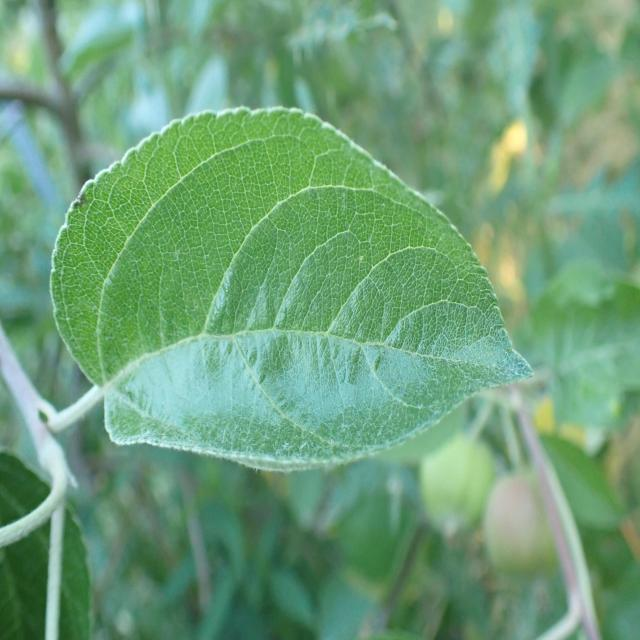healthy: (49, 106, 534, 472), (0, 452, 91, 640)
